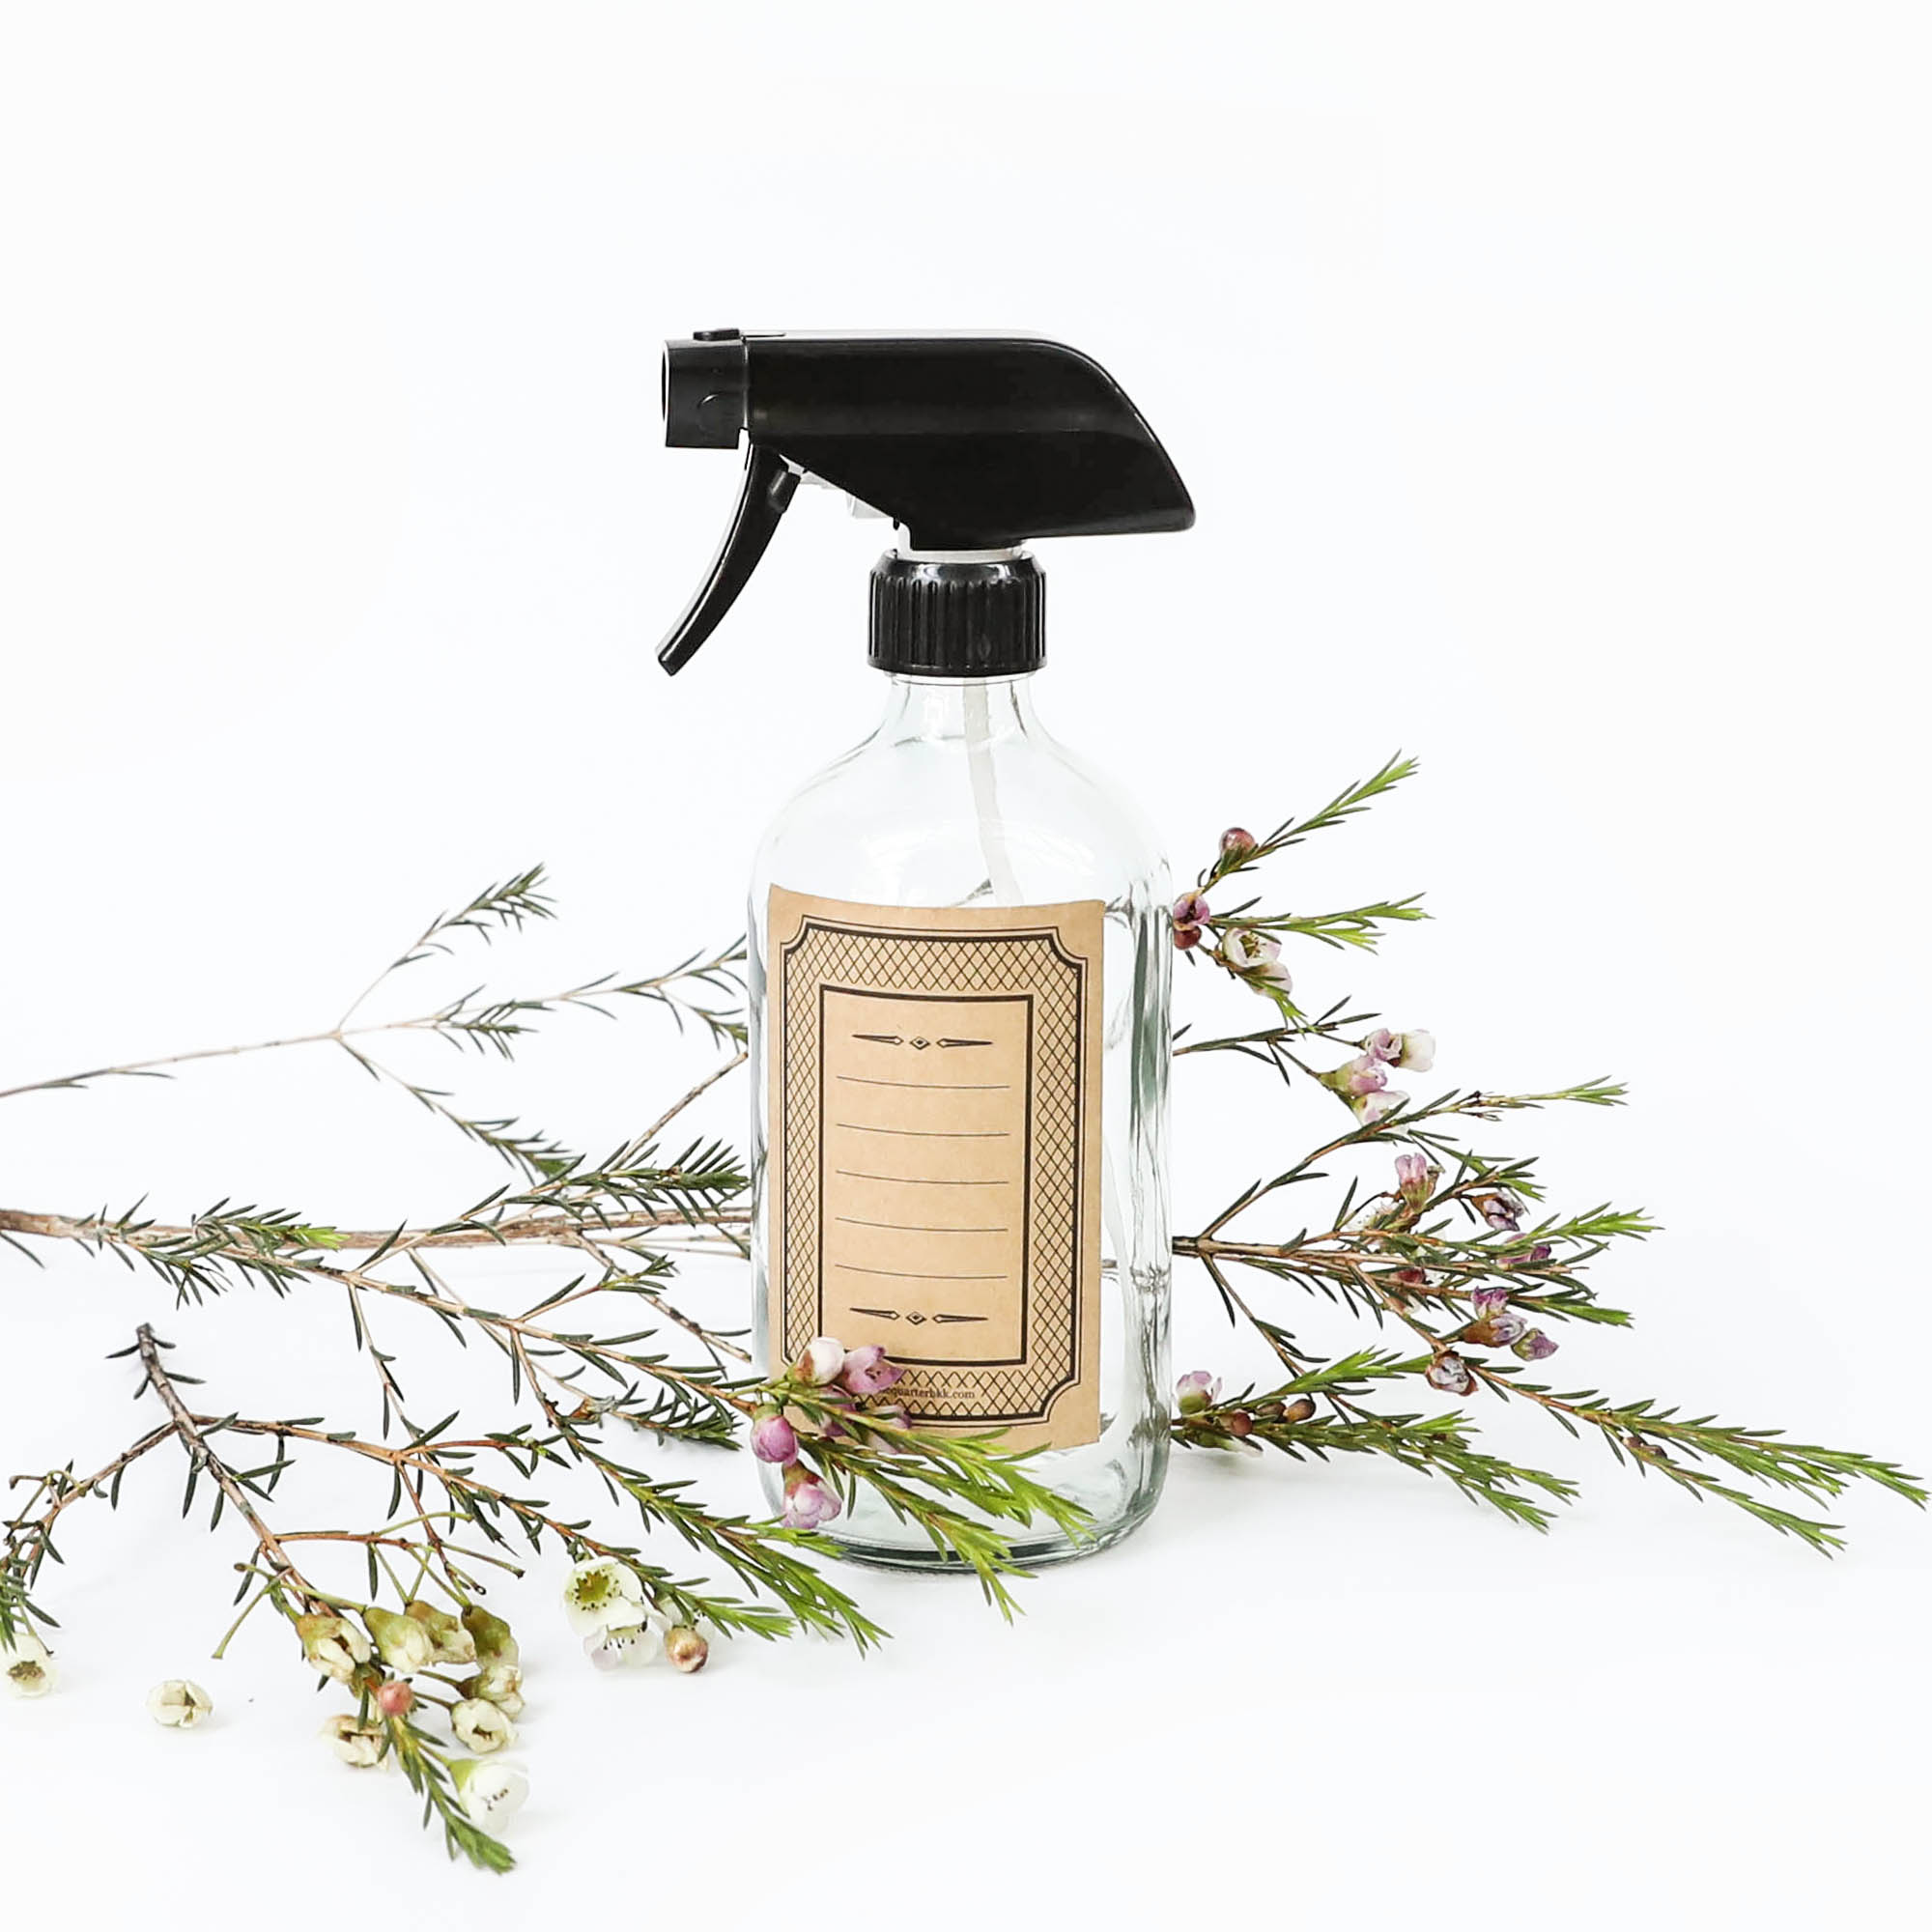glass_bottleww: (538, 219, 1362, 1865)
